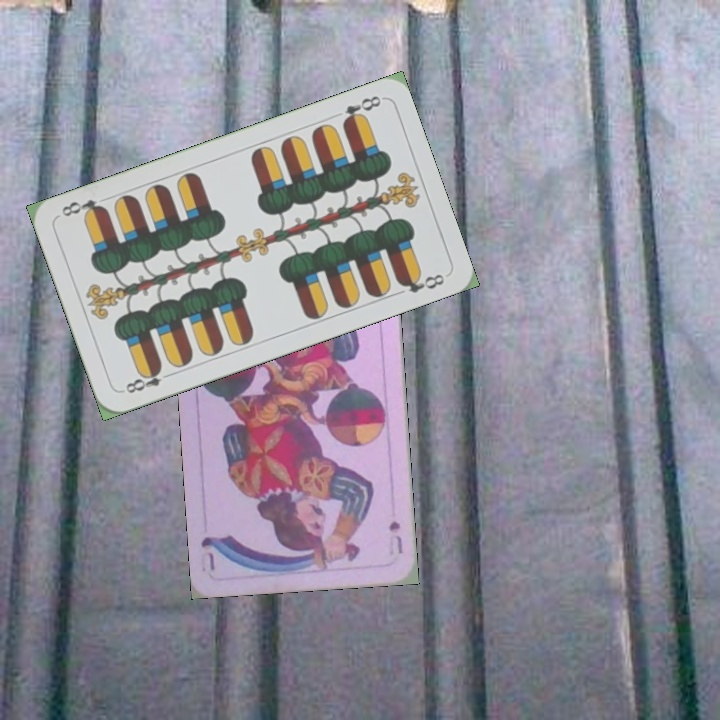E8: (121, 362, 176, 396), (338, 91, 384, 128)
SU: (384, 517, 405, 558)
